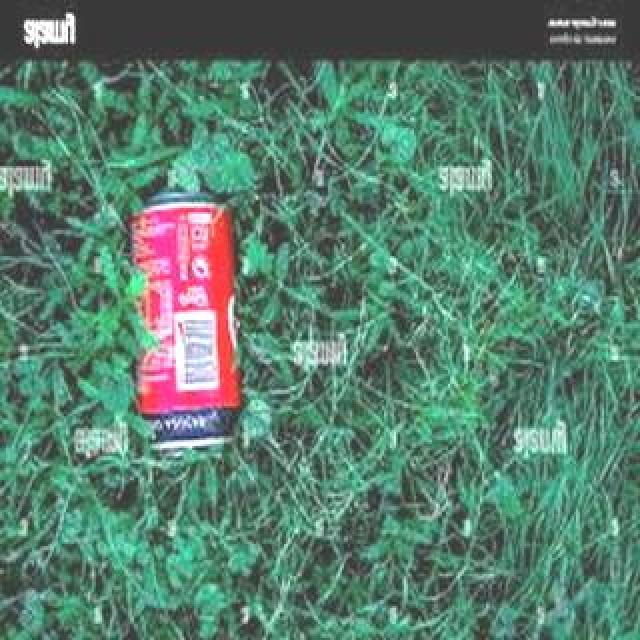Can: (122, 181, 256, 463)
